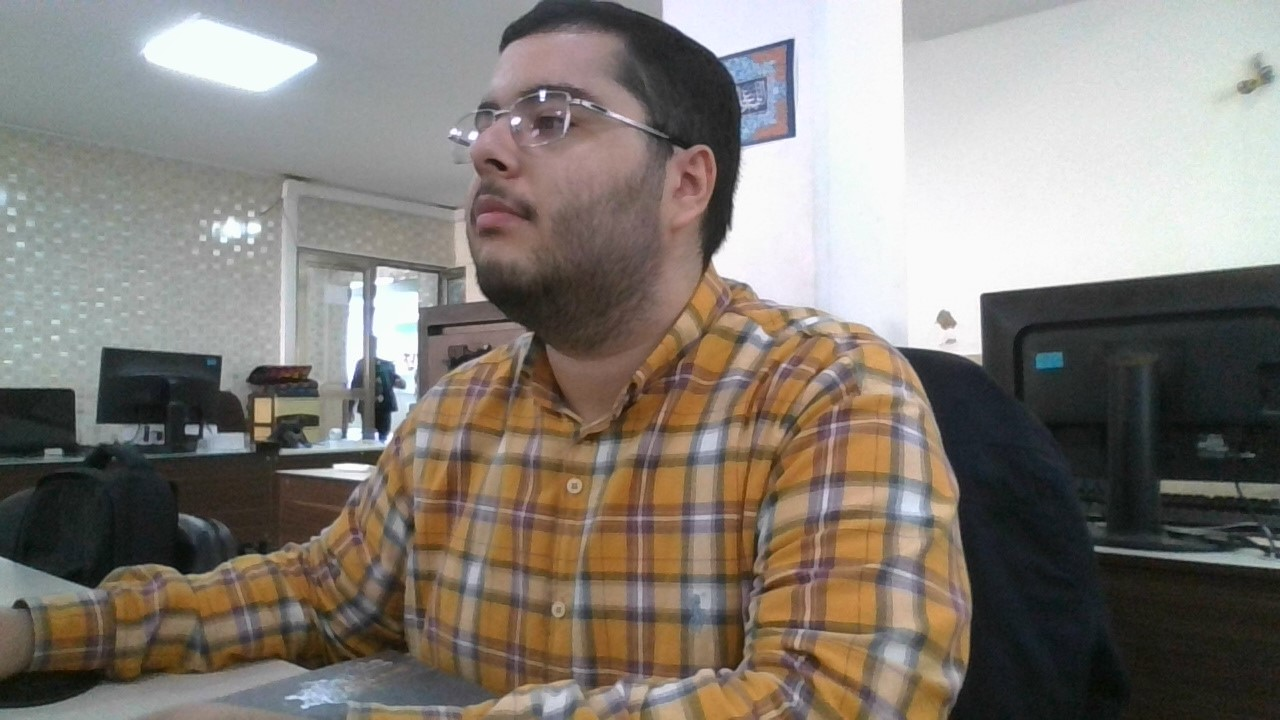NoMask: (454, 131, 677, 344)
